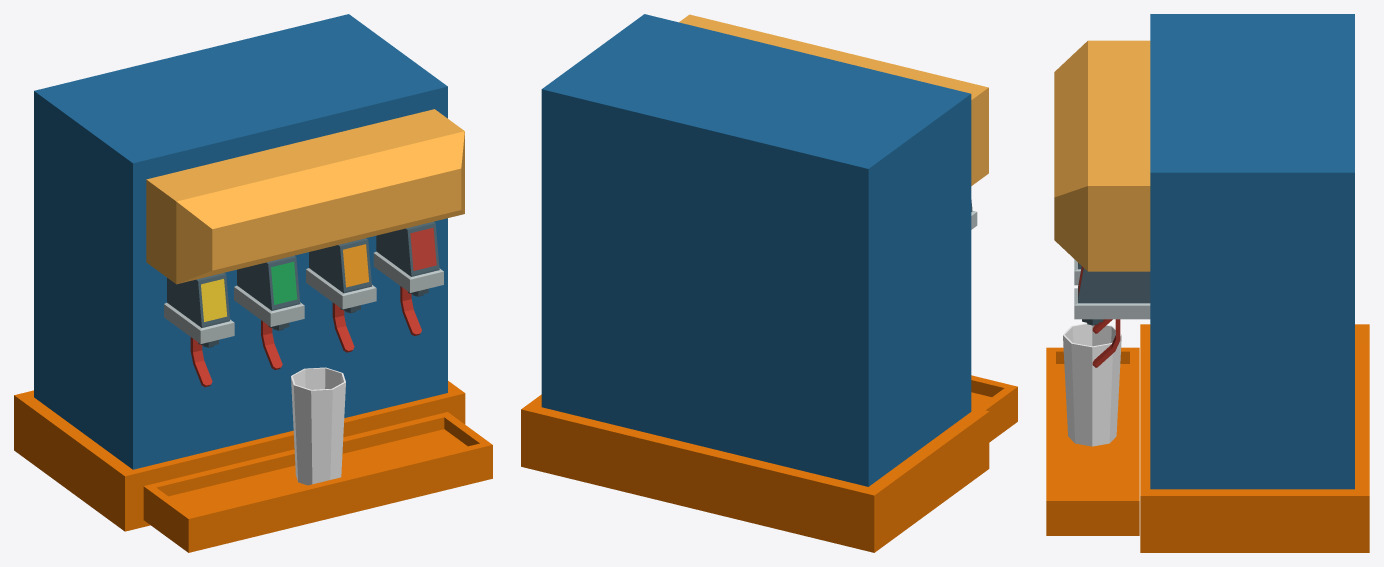
Rendered from Drink_Machine_2_lv3.fbx.
The picture shows the model from 3 angles, left to right: view 1: azimuth 30°, elevation 25°; view 2: azimuth 150°, elevation 25°; view 3: azimuth 270°, elevation 25°; orthographic projection. The views are drawn at different scales.
Visible parts, largest first — view 1: Drink_Machine_2_lv3; view 2: Drink_Machine_2_lv3; view 3: Drink_Machine_2_lv3.
Part boxes in pixels (x1,y1,x2,y2): Drink_Machine_2_lv3: (14,14,492,552); Drink_Machine_2_lv3: (521,14,1017,552); Drink_Machine_2_lv3: (1046,14,1369,552).
Bounding box in the file's own units: 113 × 115 × 89.8.
